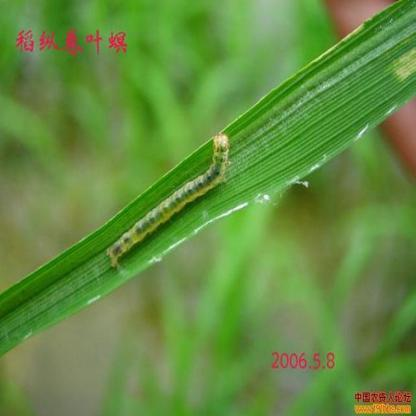leaf-folder: (95, 108, 235, 264)
